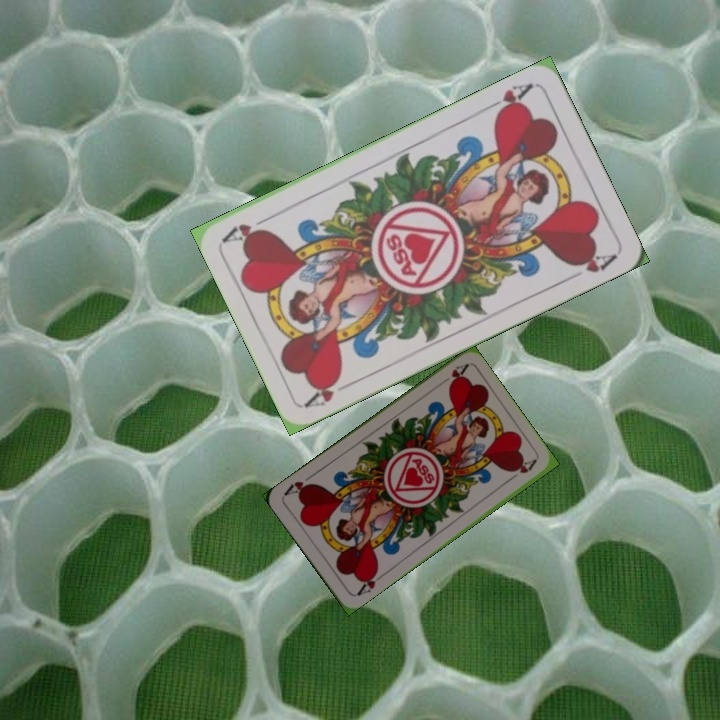HA: (481, 79, 536, 120), (301, 372, 357, 411), (351, 565, 387, 599), (433, 360, 470, 389)
